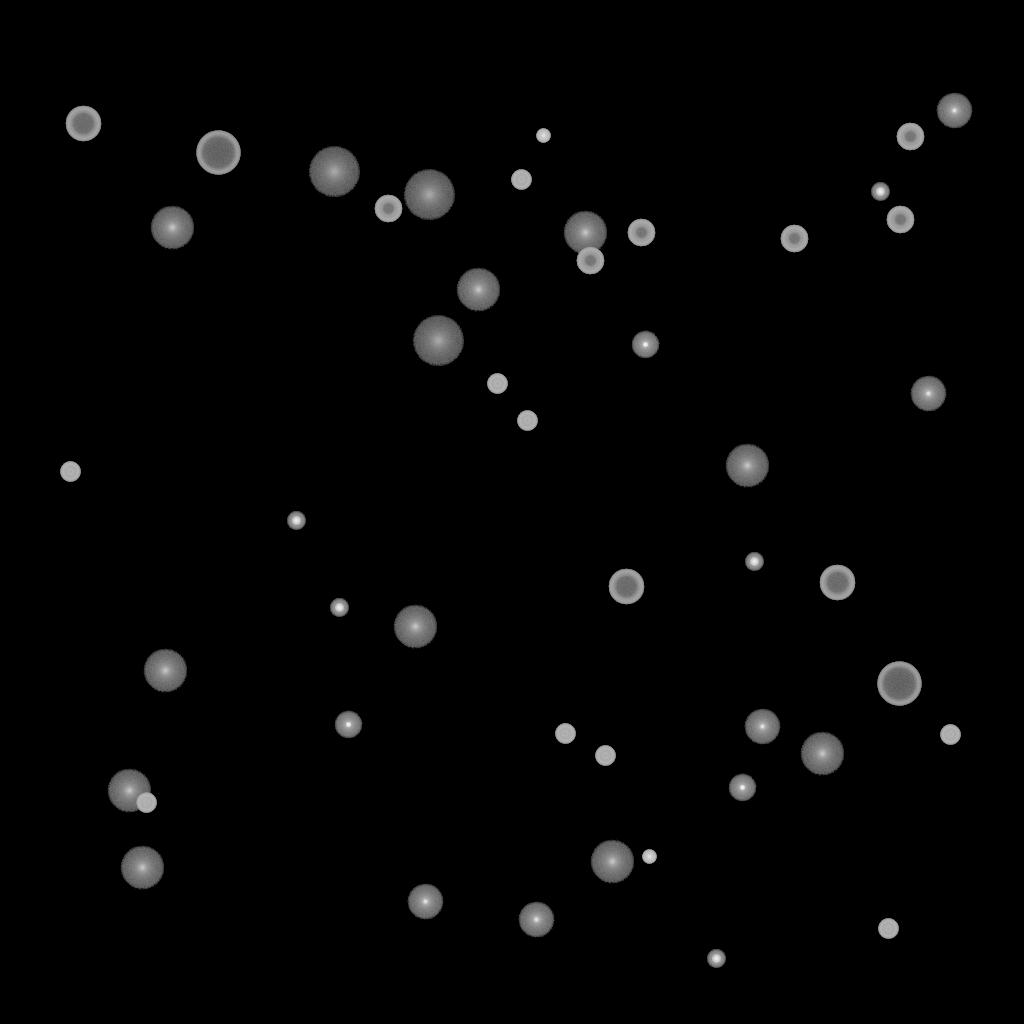depth:-10: (728, 774, 756, 802), (631, 331, 659, 359), (334, 711, 362, 739)
depth:-20: (745, 553, 763, 571), (871, 183, 889, 201), (330, 599, 348, 617), (707, 950, 725, 968), (287, 512, 305, 530)
depth:-30: (642, 850, 656, 864), (536, 129, 550, 143)
depth:-40: (60, 462, 80, 482), (487, 374, 507, 394), (555, 724, 575, 744), (517, 411, 537, 431), (136, 793, 156, 813), (878, 919, 898, 939), (511, 170, 531, 190), (940, 725, 960, 745), (595, 746, 615, 766)
depth:-50: (886, 206, 914, 234), (576, 247, 604, 275), (780, 225, 808, 253), (896, 123, 924, 151), (374, 195, 402, 223), (627, 219, 655, 247)
depth:-60: (608, 569, 644, 605), (819, 565, 855, 601), (65, 106, 101, 142)
depth:-70: (196, 131, 240, 175), (877, 662, 921, 706)
depth:0: (407, 884, 443, 920), (936, 93, 972, 129), (744, 709, 780, 745), (518, 902, 554, 938), (910, 376, 946, 412)
depth:10: (393, 605, 437, 649), (563, 211, 607, 255), (150, 206, 194, 250), (590, 840, 634, 884), (725, 444, 769, 488), (107, 769, 151, 813), (143, 649, 187, 693), (456, 268, 500, 312), (800, 732, 844, 776), (120, 846, 164, 890)
depth:20: (412, 316, 464, 366), (403, 170, 455, 220), (308, 147, 360, 197)
